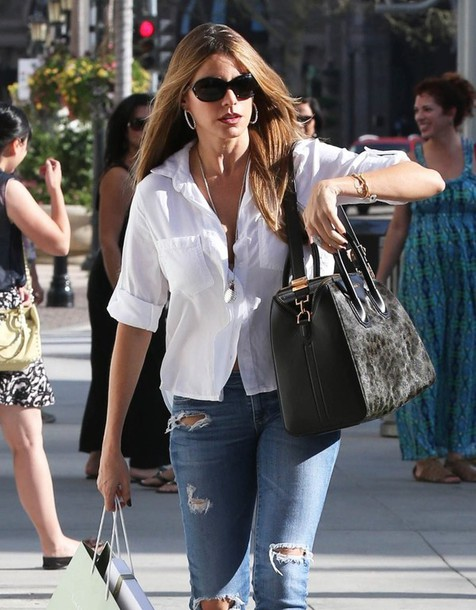jeans: (163, 387, 343, 608)
sunglasses: (189, 79, 265, 107), (125, 117, 147, 129)
